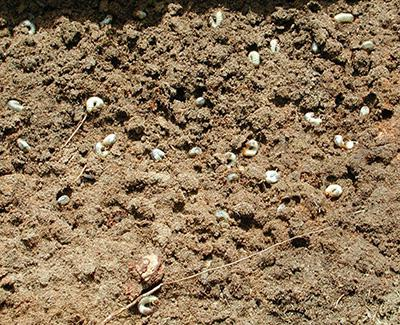grub: (82, 96, 104, 115)
